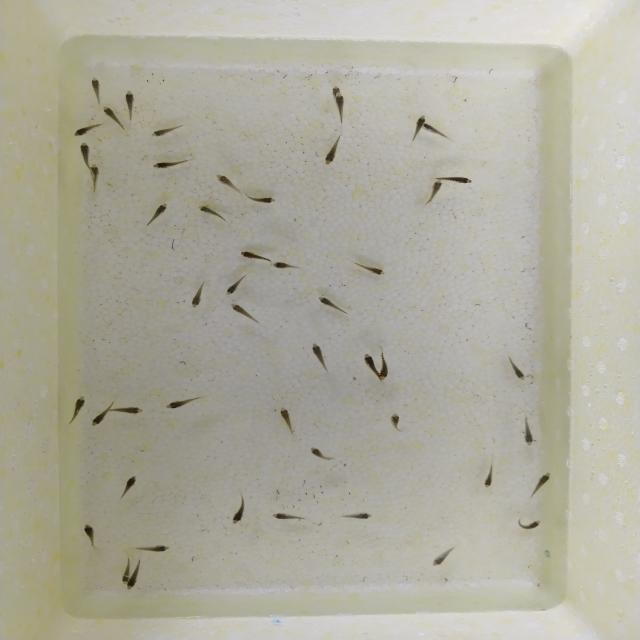fingerling: (163, 393, 206, 412), (227, 493, 249, 530), (118, 473, 149, 499), (527, 469, 555, 497), (196, 200, 227, 225), (145, 197, 173, 224), (430, 542, 457, 570), (102, 106, 128, 135), (345, 260, 390, 276), (308, 339, 329, 373), (305, 446, 341, 465), (324, 134, 344, 167), (124, 88, 142, 123), (86, 74, 104, 108), (242, 192, 278, 209), (129, 541, 176, 554), (230, 302, 257, 324), (269, 512, 311, 526), (314, 294, 344, 313), (517, 414, 534, 446), (505, 518, 549, 530), (216, 171, 241, 192), (278, 406, 296, 435), (146, 124, 186, 137), (147, 159, 186, 172), (507, 358, 528, 381), (83, 523, 101, 549), (223, 277, 246, 297), (85, 163, 102, 189), (127, 566, 144, 592), (192, 280, 206, 310), (482, 462, 496, 492), (337, 510, 377, 520), (390, 412, 406, 436), (407, 115, 427, 134), (378, 354, 392, 380), (241, 249, 271, 261), (120, 403, 144, 418), (72, 392, 87, 416), (74, 124, 99, 138), (266, 261, 300, 271), (425, 124, 449, 138), (89, 412, 110, 427), (435, 176, 474, 184), (336, 93, 345, 121), (118, 562, 130, 582), (79, 142, 90, 162), (364, 353, 374, 374), (433, 178, 441, 202), (333, 85, 340, 94)
